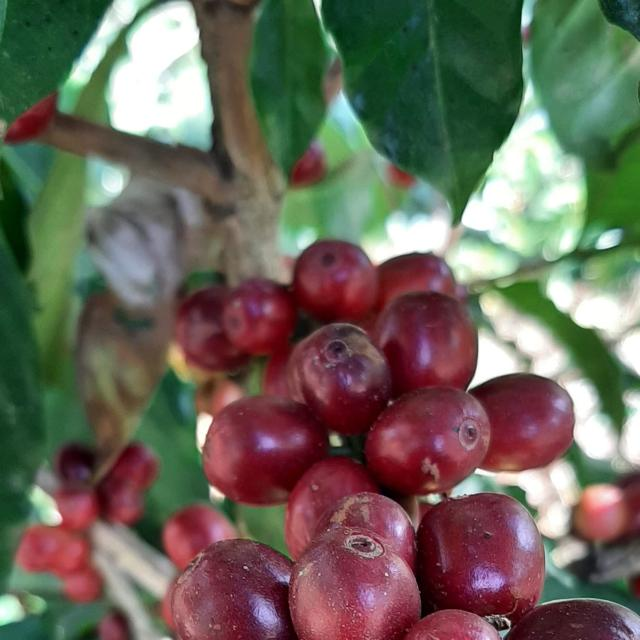red: (418, 493, 546, 625), (289, 528, 421, 640), (203, 396, 329, 507), (365, 387, 491, 496), (171, 540, 297, 640), (289, 323, 392, 436), (375, 291, 478, 397), (470, 374, 576, 472), (284, 457, 380, 561), (314, 493, 417, 573), (294, 240, 379, 322), (173, 285, 249, 371), (222, 278, 297, 355), (506, 600, 640, 640), (377, 253, 457, 311), (404, 611, 502, 640)
